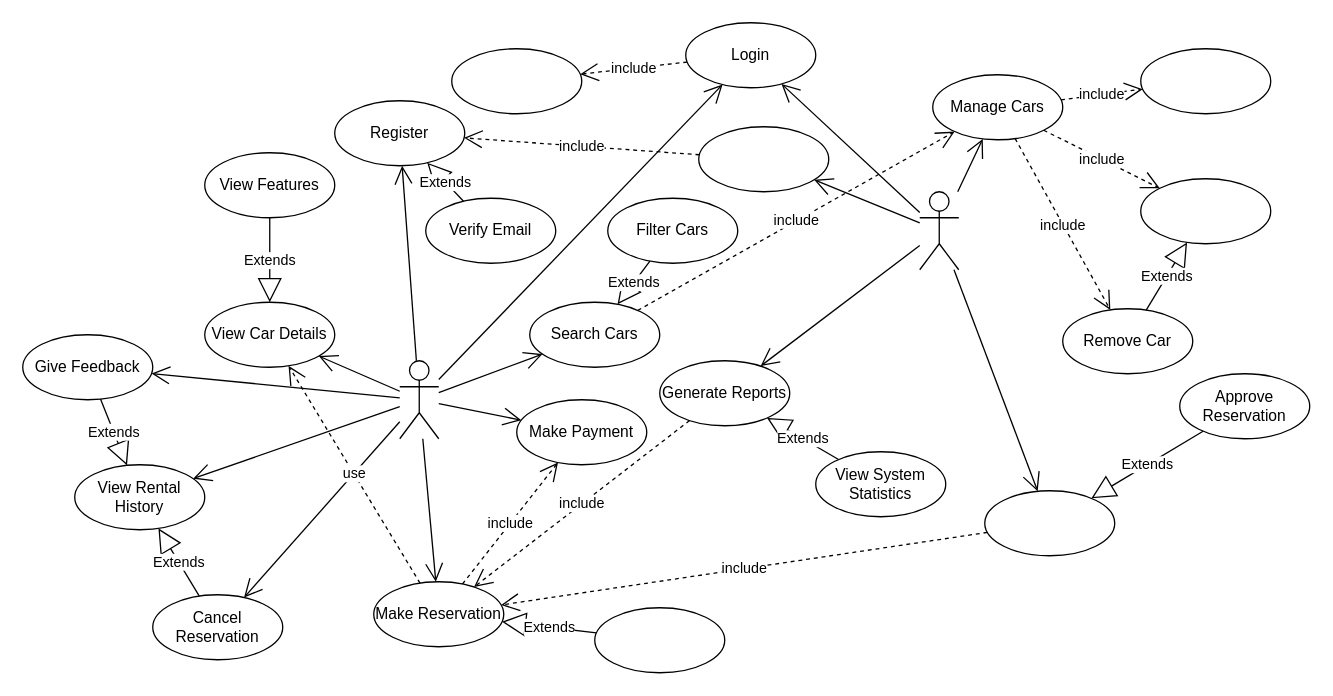
Image size: 1333x696. Some labels were removed from this diagram. The shapes that lost their labels are listed below. From the top down, each one's centre as x and y in pixels, then its label:
At point (516, 80): "Authenticate User".
At point (1205, 80): "Add New Car".
At point (763, 158): "Manage Customer Account".
At point (938, 230): "Manager".
At point (1205, 210): "Update Car Details".
At point (418, 399): "Customer".
At point (1049, 522): "View Active Rentals".
At point (659, 639): "Add Optional Features".
